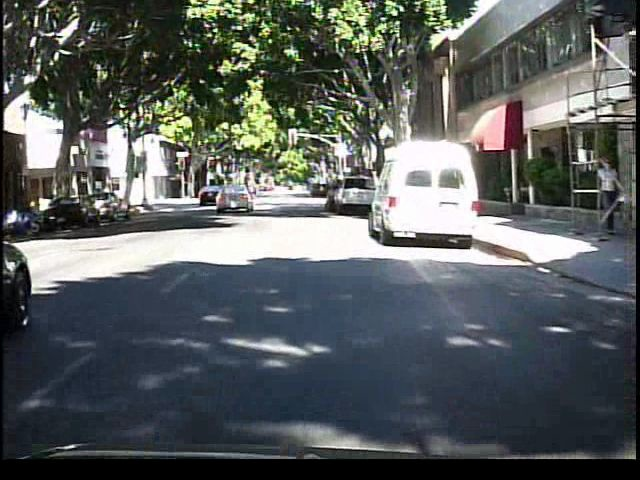person: (590, 154, 620, 242), (240, 176, 260, 209)
